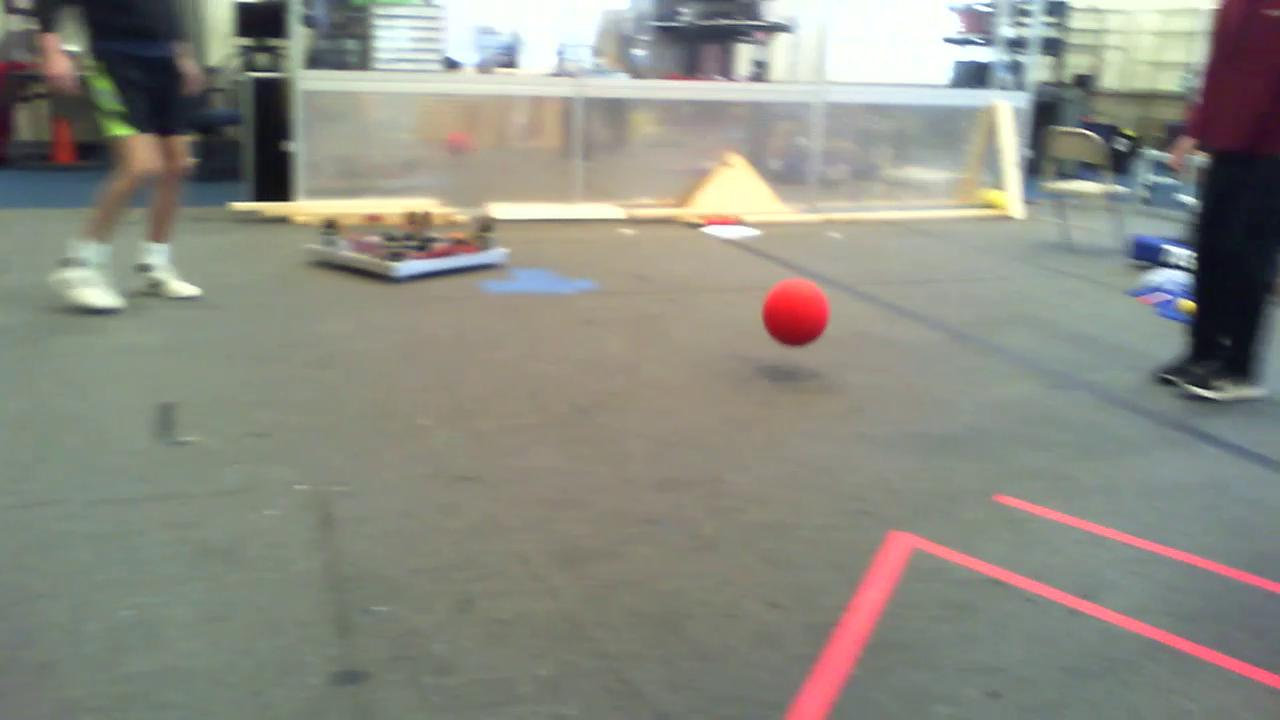Red_Ball: (748, 270, 831, 347)
